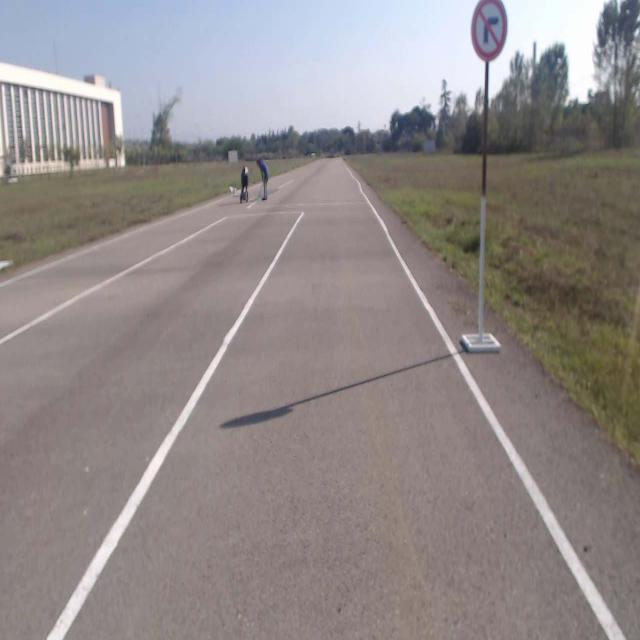sagadonulmez: (472, 1, 508, 62)
